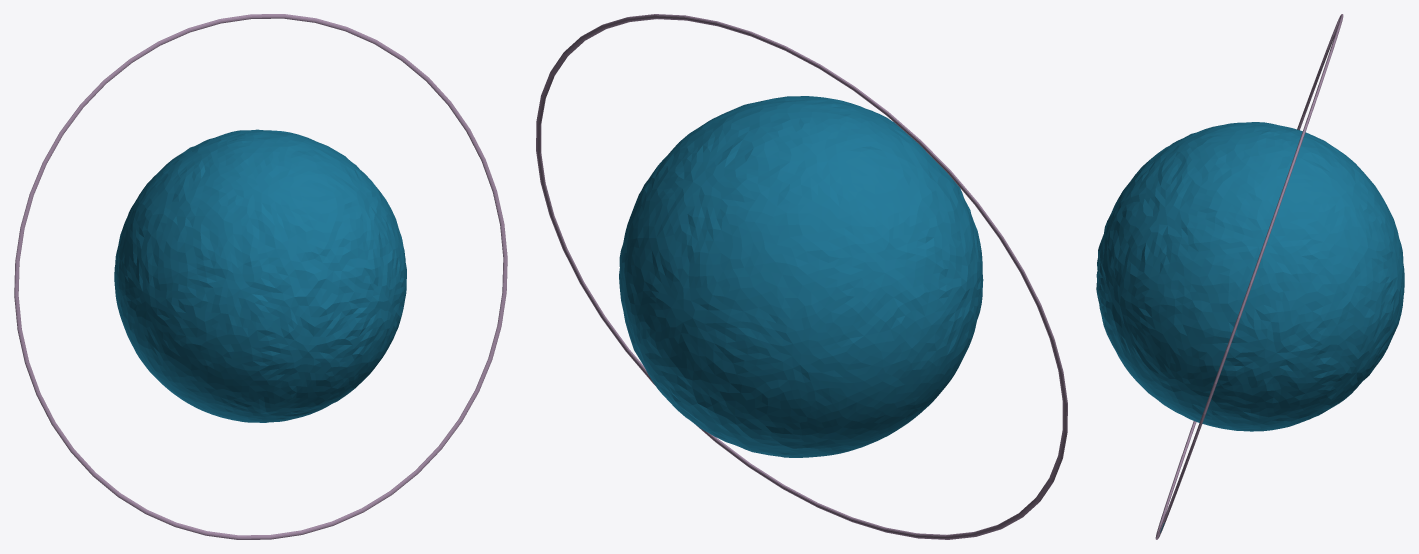
Rendered from Uranus.gltf.
3 renders of one model, left to right at view 1: azimuth 30°, elevation 25°; view 2: azimuth 150°, elevation 25°; view 3: azimuth 270°, elevation 25°, orthographic. The views are drawn at different scales.
Visible parts, largest first — view 1: Icosphere; view 2: Icosphere; view 3: Icosphere.
Part boxes in pixels (x1,y1,x2,y2): Icosphere: (14, 14, 507, 539); Icosphere: (536, 14, 1067, 539); Icosphere: (1096, 14, 1404, 539).
Size of the model in its own units: 33.51 by 32.12 by 18.67.
